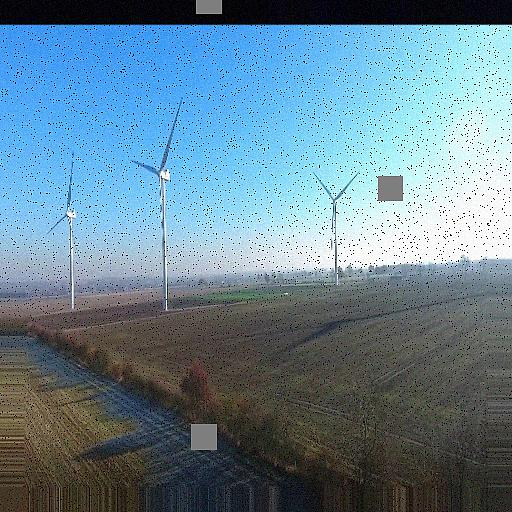wind turbine: (128, 94, 183, 315), (307, 171, 362, 285), (49, 151, 79, 308)
